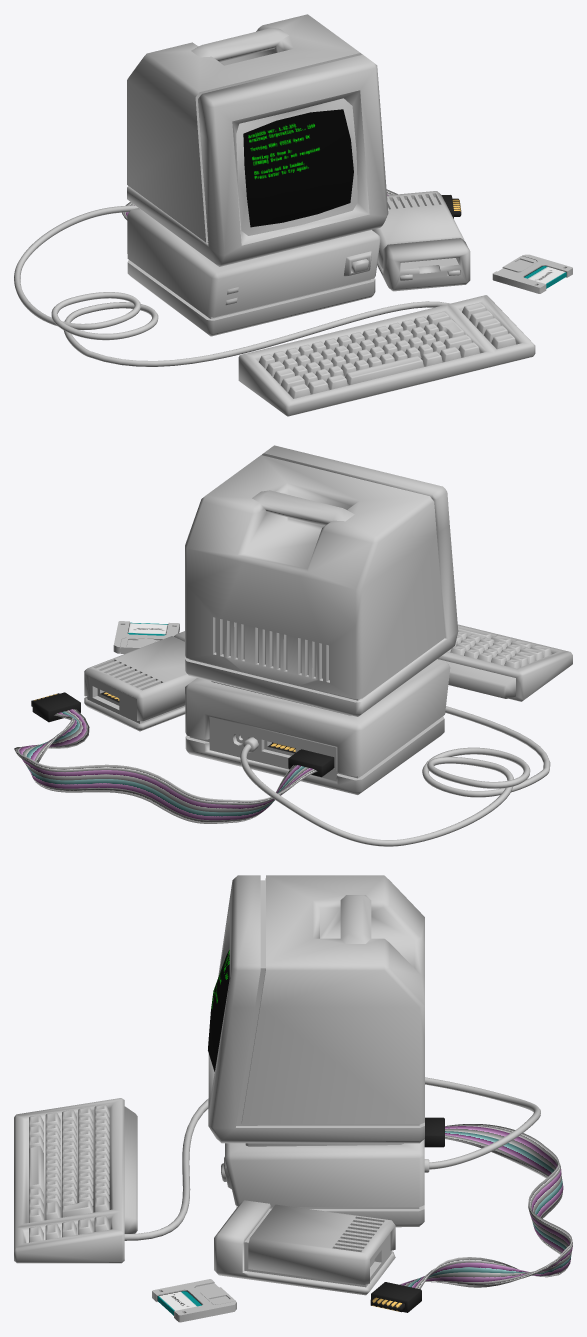
The picture shows the model from 3 angles, top to bottom: view 1: azimuth 30°, elevation 25°; view 2: azimuth 150°, elevation 25°; view 3: azimuth 270°, elevation 25°; orthographic projection. The views are drawn at different scales.
Parts seen in each view (by area): view 1: computer, keyboard-keys, keyboard, floppy drive, BezierCurve, floppy; view 2: computer, ribbon, floppy drive, BezierCurve, keyboard, keyboard-keys, floppy, ribbon connector 2, ribbon connector 1; view 3: computer, floppy drive, keyboard, keyboard-keys, ribbon, BezierCurve, floppy, ribbon connector 2, ribbon connector 1.
Boxes of the visible parts, <box> form: computer: <box>127,14,388,336</box>; keyboard-keys: <box>259,302,516,398</box>; keyboard: <box>238,295,535,416</box>; floppy drive: <box>372,191,470,291</box>; BezierCurve: <box>14,205,449,366</box>; floppy: <box>492,254,572,293</box>; computer: <box>185,445,458,794</box>; ribbon: <box>14,709,317,823</box>; floppy drive: <box>84,631,196,731</box>; BezierCurve: <box>240,706,550,846</box>; keyboard: <box>437,624,572,701</box>; keyboard-keys: <box>447,625,551,668</box>; floppy: <box>113,621,179,653</box>; ribbon connector 2: <box>31,692,80,722</box>; ribbon connector 1: <box>288,749,334,777</box>; computer: <box>208,875,424,1227</box>; floppy drive: <box>214,1200,395,1295</box>; keyboard: <box>14,1098,137,1263</box>; keyboard-keys: <box>29,1104,109,1242</box>; ribbon: <box>399,1124,572,1289</box>; BezierCurve: <box>124,1077,540,1240</box>; floppy: <box>152,1279,236,1322</box>; ribbon connector 2: <box>370,1282,421,1312</box>; ribbon connector 1: <box>424,1117,444,1147</box>.
Size of the model in its own units: 79.95 by 41.49 by 76.59.
